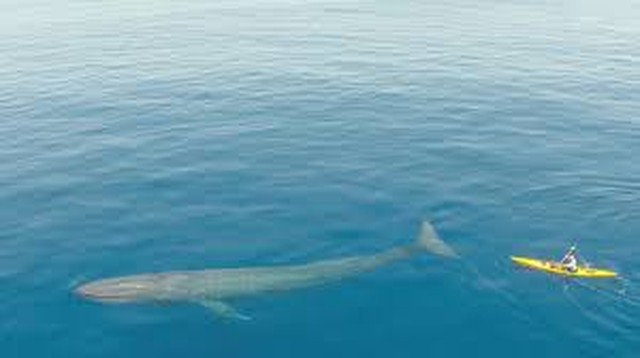whale: (67, 218, 467, 326)
